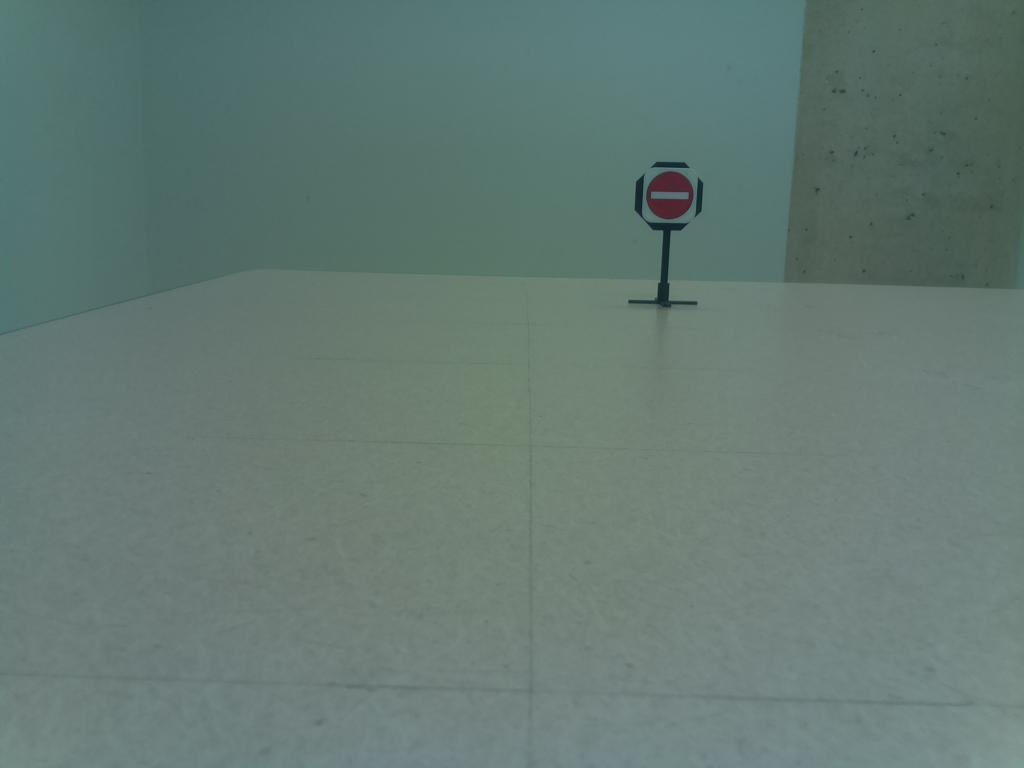sign_noentry: (632, 159, 710, 236)
